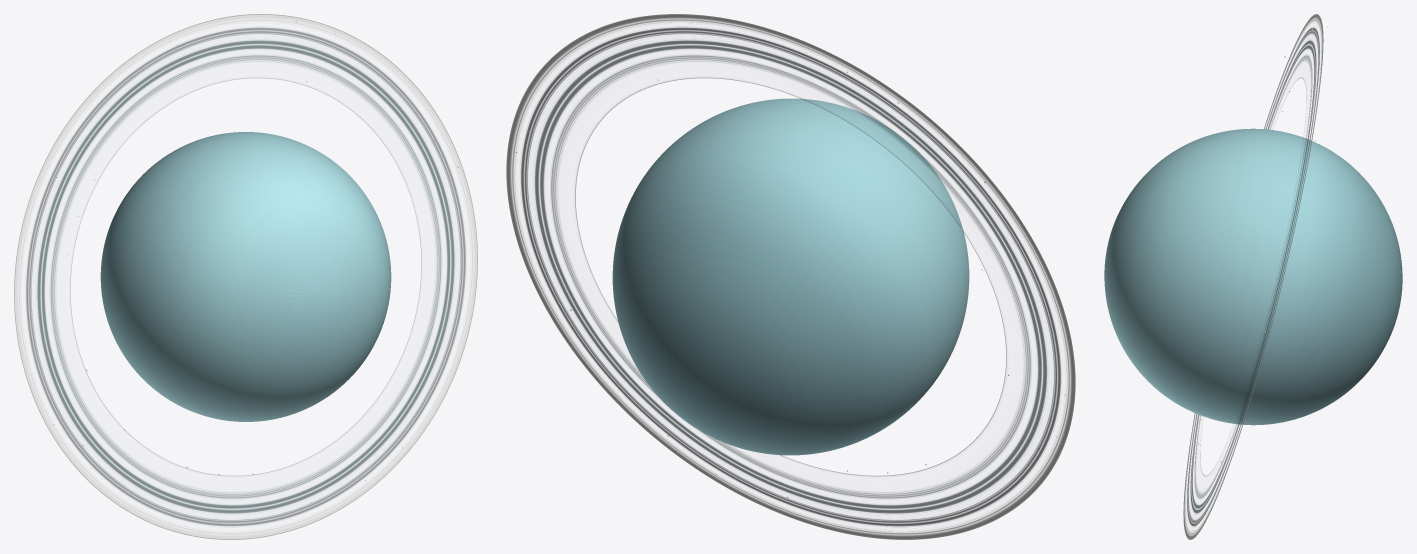
File: uranus.glb
3 views of the same model, side by side, from view 1: azimuth 30°, elevation 25°; view 2: azimuth 150°, elevation 25°; view 3: azimuth 270°, elevation 25° (orthographic). The views are drawn at different scales.
Visible parts, largest first — view 1: Uranus, Uranus_Rings.003; view 2: Uranus, Uranus_Rings.003; view 3: Uranus, Uranus_Rings.003.
Part boxes in pixels (left/top/right/bottom): Uranus: left=100, top=132, right=391, bottom=421; Uranus_Rings.003: left=14, top=14, right=477, bottom=539; Uranus: left=612, top=98, right=969, bottom=455; Uranus_Rings.003: left=506, top=14, right=1075, bottom=539; Uranus: left=1104, top=128, right=1402, bottom=425; Uranus_Rings.003: left=1183, top=14, right=1323, bottom=539.
Size of the model in its own units: 91.05 by 87.95 by 50.17.
3 materials, 2 textured.
